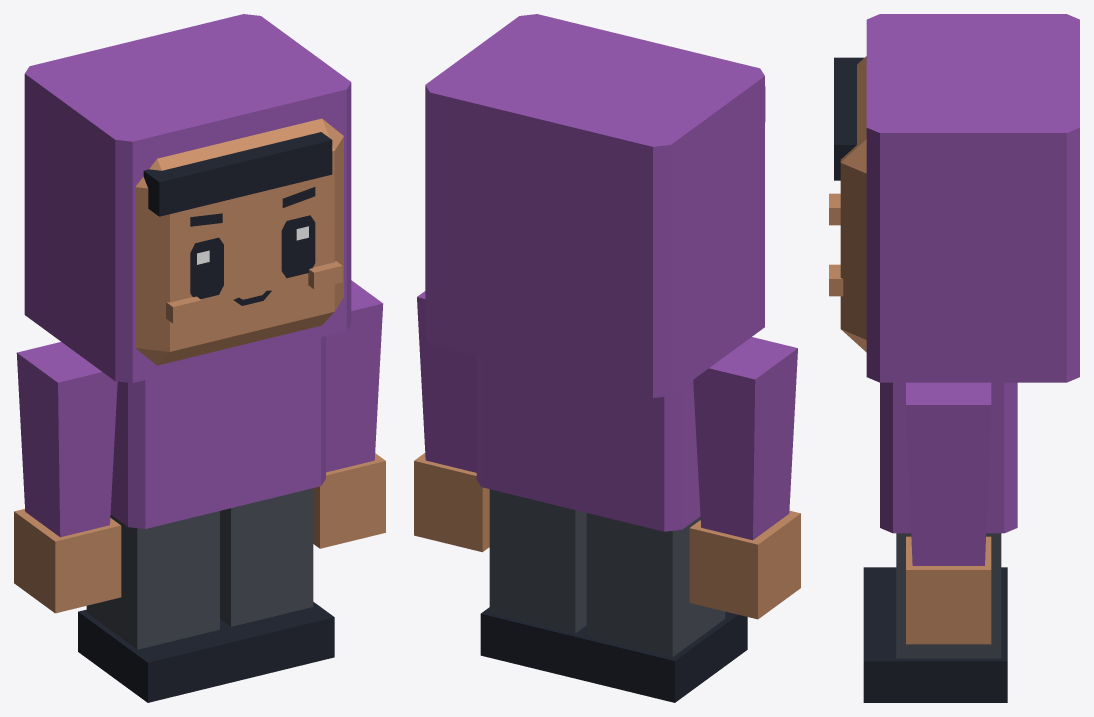
The model's file is townsperson-teen.glb.
The picture shows the model from 3 angles, left to right: view 1: azimuth 30°, elevation 25°; view 2: azimuth 150°, elevation 25°; view 3: azimuth 270°, elevation 25°; orthographic projection. The views are drawn at different scales.
Visible parts, largest first — view 1: hair, body, head, arm_R, leg_R, leg_L, shoe_R, hand_R, arm_L, face, hand_L, shoe_L; view 2: hair, body, arm_R, leg_R, leg_L, hand_R, shoe_R, arm_L, hand_L, shoe_L; view 3: hair, arm_L, body, shoe_L, hand_L, head, leg_L, shoe_R, face.
Part boxes in pixels (x1=…): hair: x1=24, y1=14, x2=351, y2=383; body: x1=110, y1=336, x2=325, y2=528; head: x1=135, y1=118, x2=343, y2=365; arm_R: x1=16, y1=342, x2=117, y2=537; leg_R: x1=86, y1=511, x2=219, y2=649; leg_L: x1=220, y1=488, x2=313, y2=626; shoe_R: x1=78, y1=609, x2=241, y2=702; hand_R: x1=14, y1=509, x2=121, y2=613; arm_L: x1=326, y1=280, x2=383, y2=472; face: x1=166, y1=187, x2=342, y2=323; hand_L: x1=313, y1=453, x2=385, y2=548; shoe_L: x1=220, y1=602, x2=334, y2=679; hair: x1=425, y1=14, x2=765, y2=397; body: x1=476, y1=355, x2=700, y2=531; arm_R: x1=693, y1=337, x2=797, y2=540; leg_R: x1=586, y1=513, x2=725, y2=657; leg_L: x1=489, y1=489, x2=586, y2=633; hand_R: x1=689, y1=510, x2=800, y2=619; shoe_R: x1=577, y1=611, x2=747, y2=702; arm_L: x1=417, y1=291, x2=476, y2=472; hand_L: x1=414, y1=453, x2=489, y2=552; shoe_L: x1=480, y1=607, x2=586, y2=678; hair: x1=834, y1=14, x2=1079, y2=382; arm_L: x1=906, y1=382, x2=991, y2=565; body: x1=880, y1=382, x2=1017, y2=533; shoe_L: x1=863, y1=614, x2=1007, y2=702; hand_L: x1=906, y1=536, x2=991, y2=644; head: x1=840, y1=56, x2=866, y2=352; leg_L: x1=896, y1=533, x2=1001, y2=658; shoe_R: x1=863, y1=567, x2=1007, y2=614; face: x1=829, y1=193, x2=843, y2=296.
Size of the model in its own units: 1.2 by 1.96 by 0.765.
